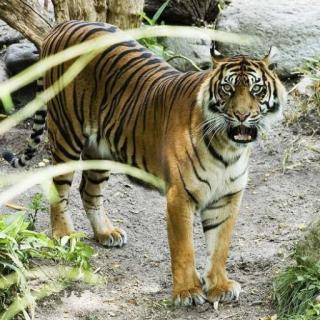Tiger: (33, 20, 302, 307)
